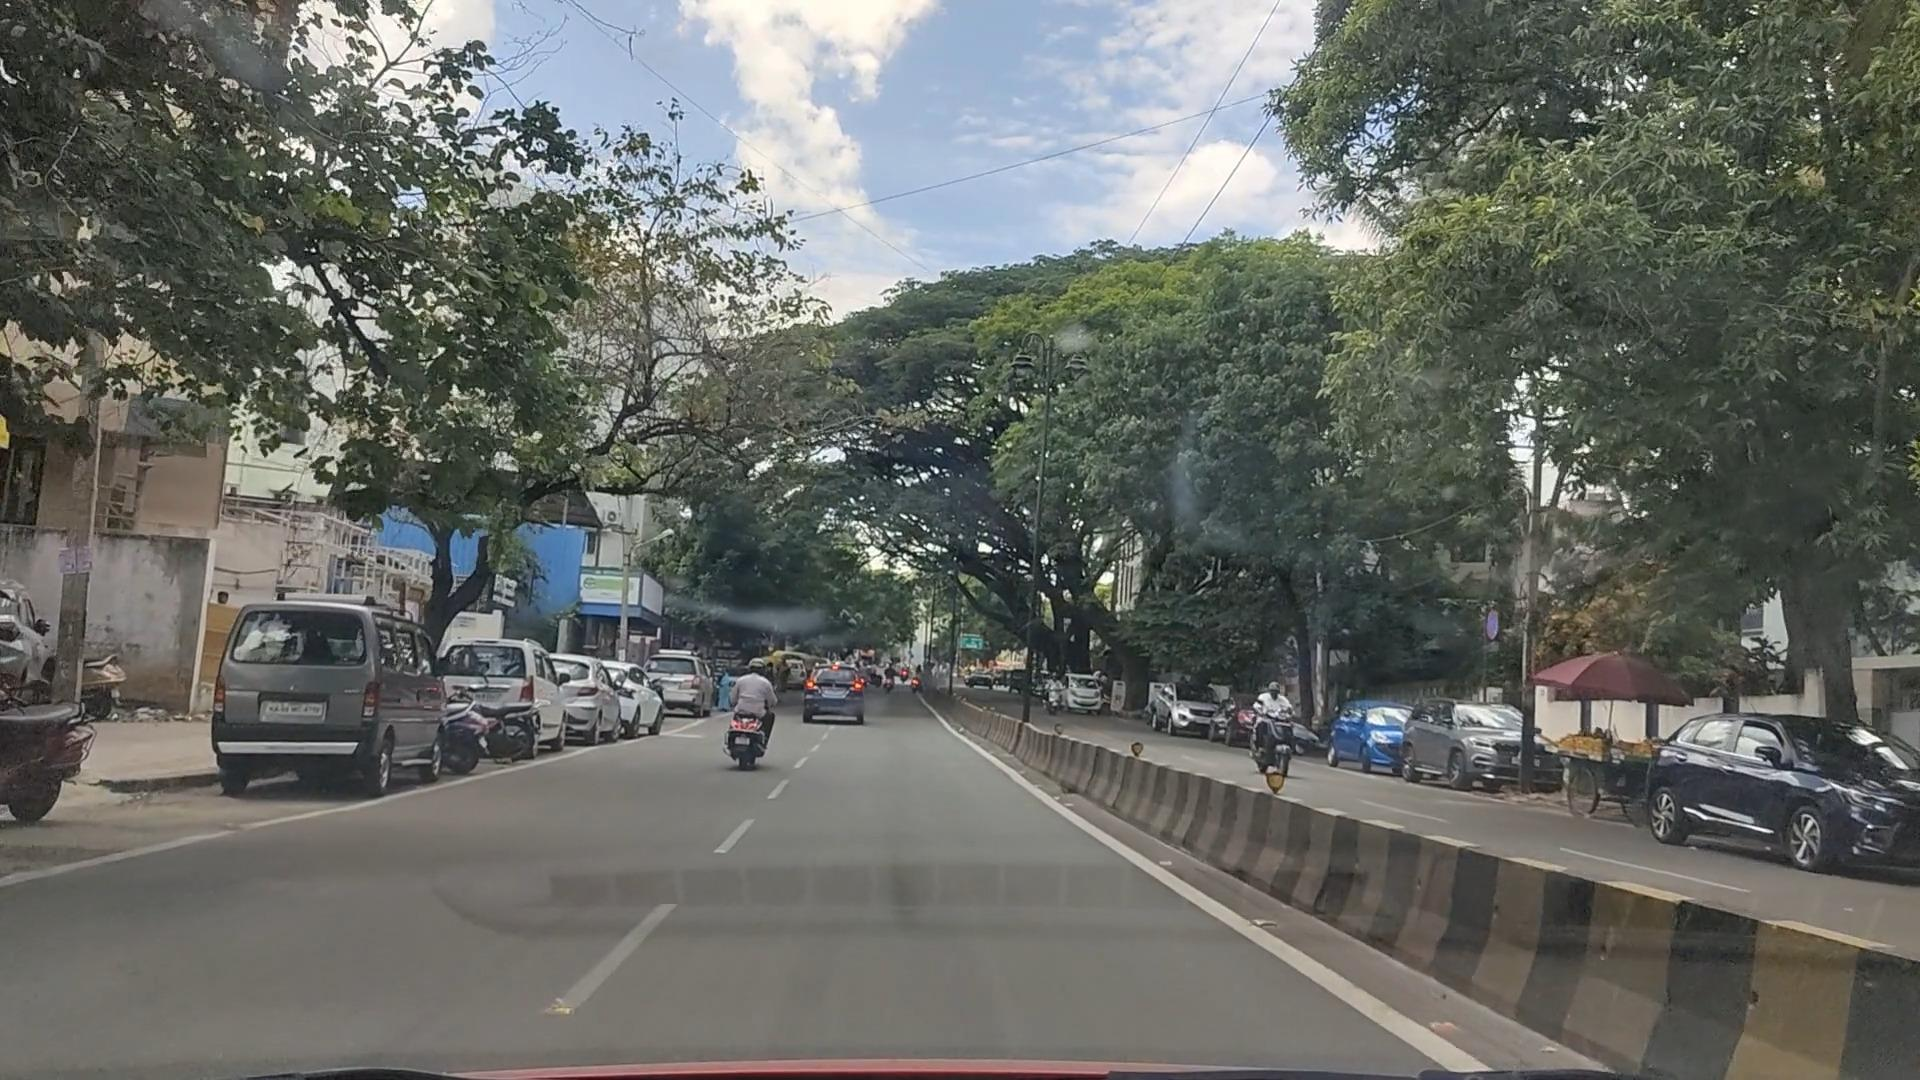LMV: (237, 597, 446, 812), (698, 647, 787, 778)
